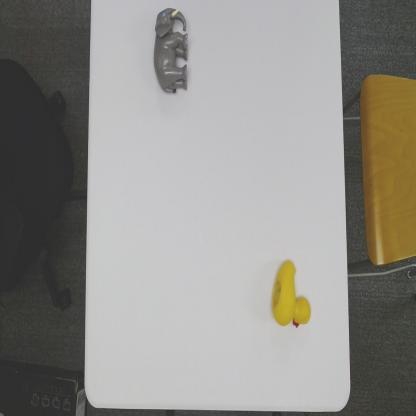Duck: (270, 256, 312, 330)
Elephant: (153, 5, 189, 97)
